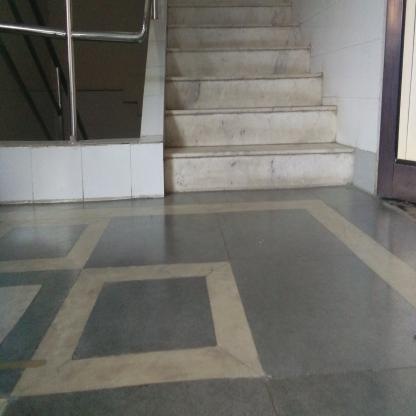stairs: (169, 15, 293, 200)
